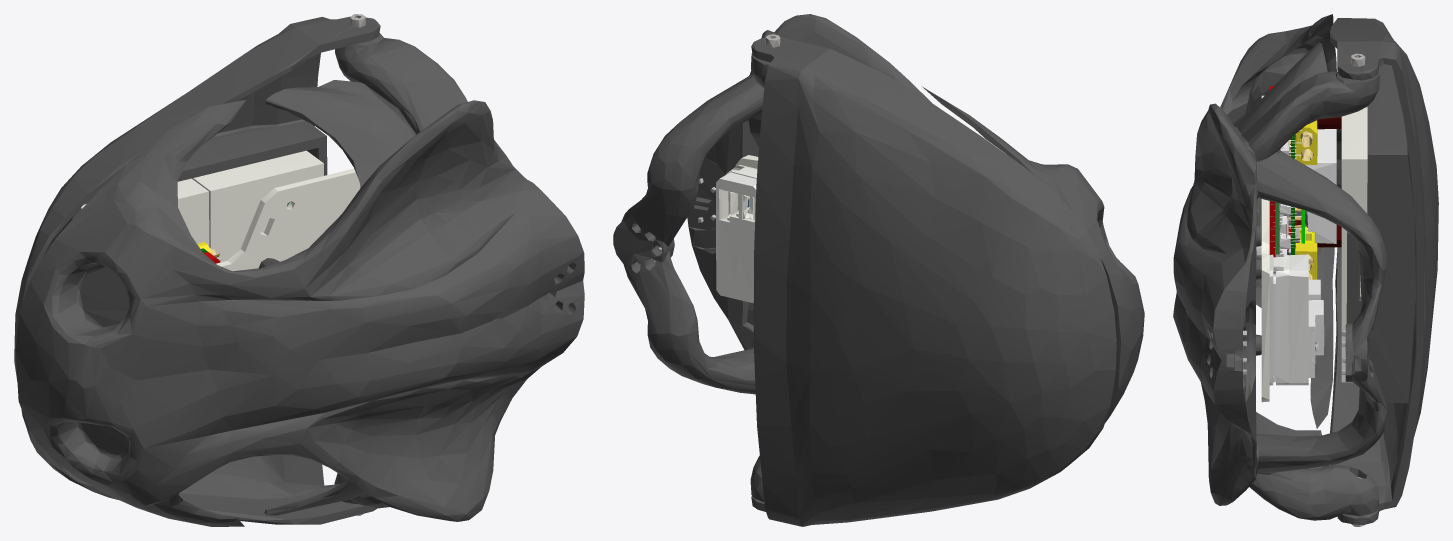
Rendered from link_body_00.obj.
The picture shows the model from 3 angles, left to right: view 1: azimuth 30°, elevation 25°; view 2: azimuth 150°, elevation 25°; view 3: azimuth 270°, elevation 25°; orthographic projection. The views are drawn at different scales.
Parts seen in each view (by area): view 1: link_body_00; view 2: link_body_00; view 3: link_body_00.
Part boxes in pixels (x1,y1,x2,y2): link_body_00: [14, 14, 584, 526]; link_body_00: [613, 14, 1144, 526]; link_body_00: [1173, 14, 1438, 526].
Bounding box in the file's own units: 211 × 194 × 99.81.
